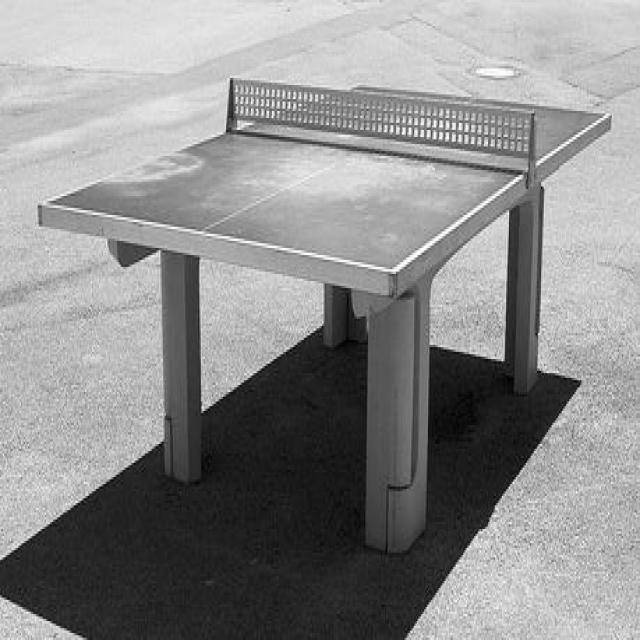table: (36, 85, 612, 552)
